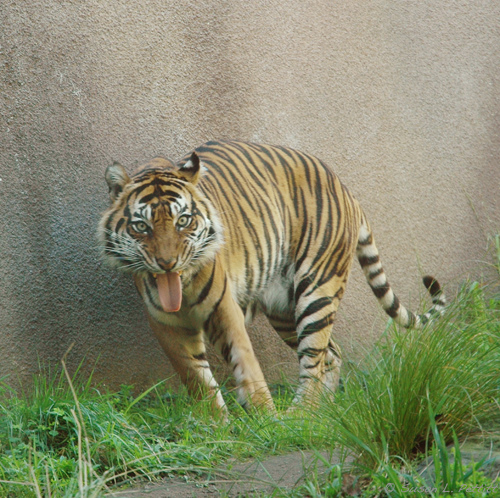Tigre: (89, 121, 443, 418)
